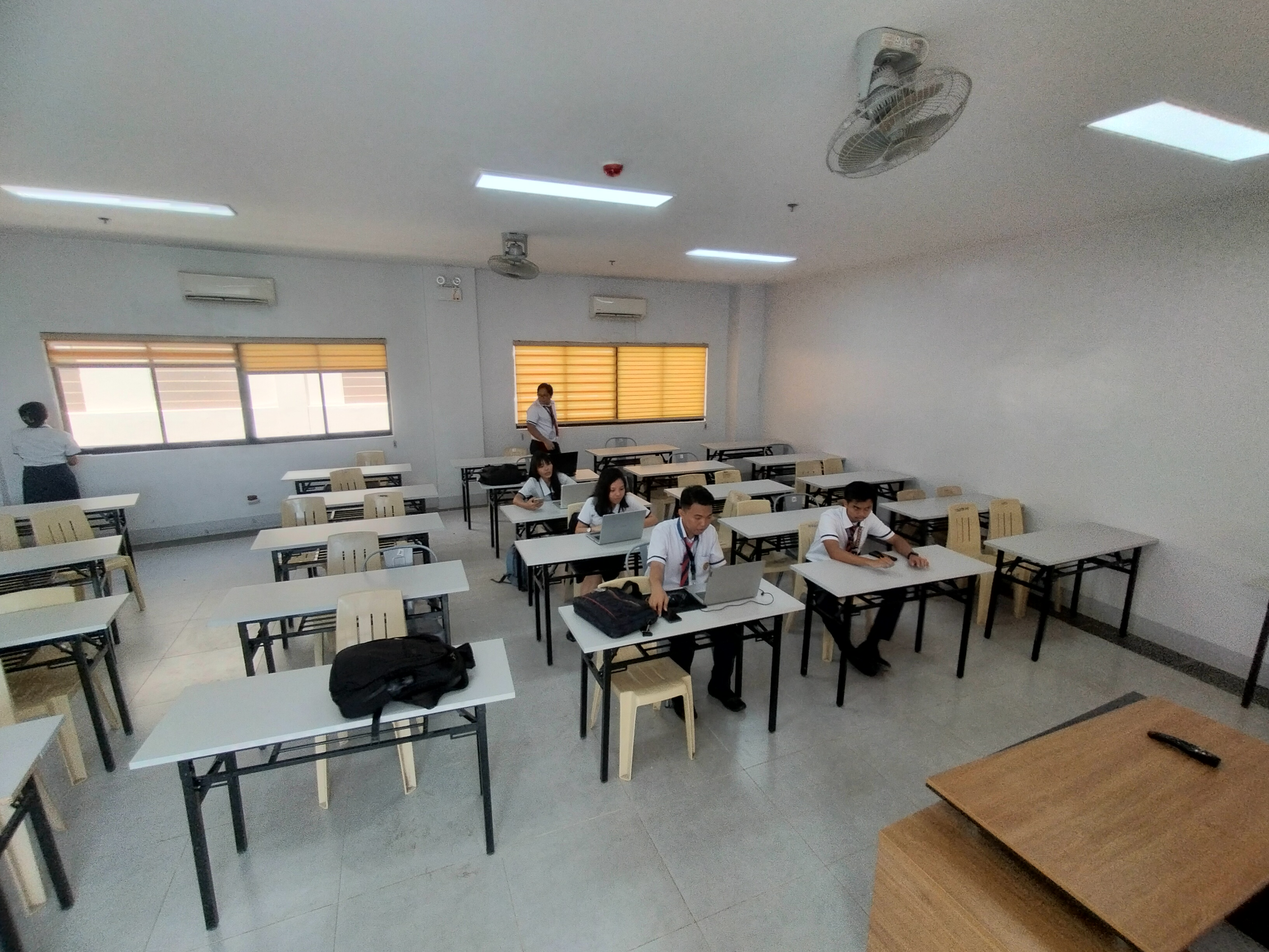with-student: (556, 480, 806, 685), (791, 473, 1001, 627), (510, 465, 693, 575), (492, 447, 653, 528)
